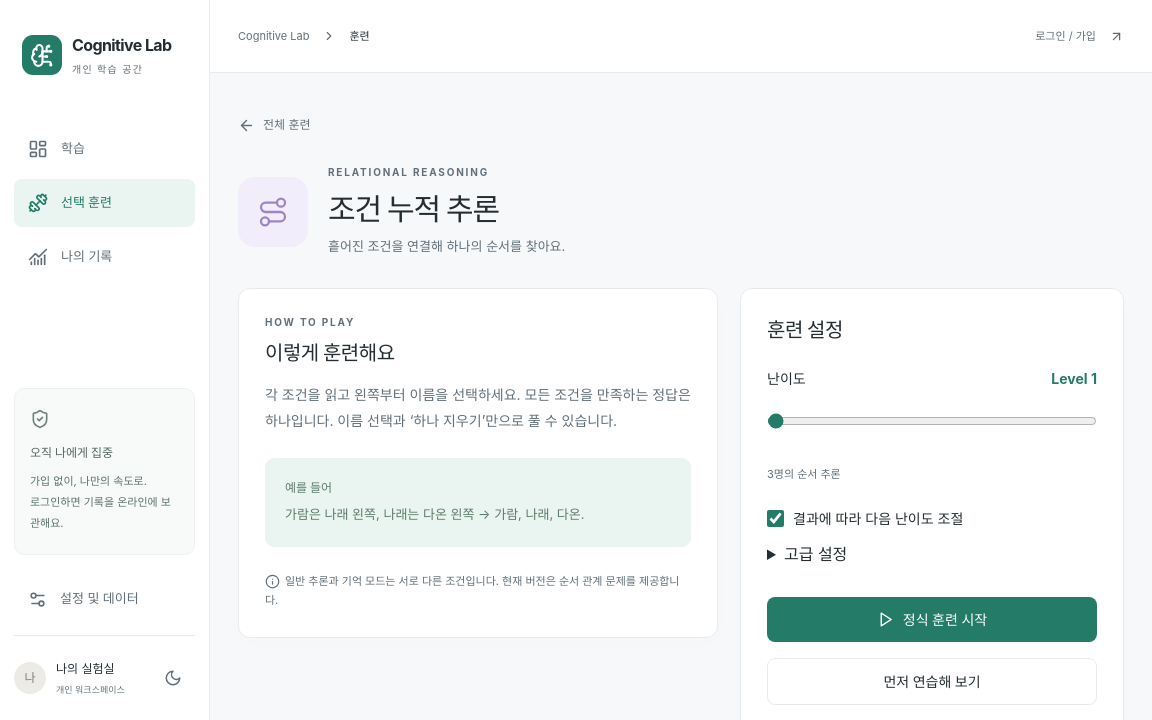
Test: invalidates a hidden timed session and excludes its result
Later steps or results of the test are not shown.
Expected: the heading "이렇게 훈련해요" is shown, [265, 341, 394, 365]
Click the button "정식 훈련 시작". click: (932, 620)
box: [767, 597, 1097, 642]
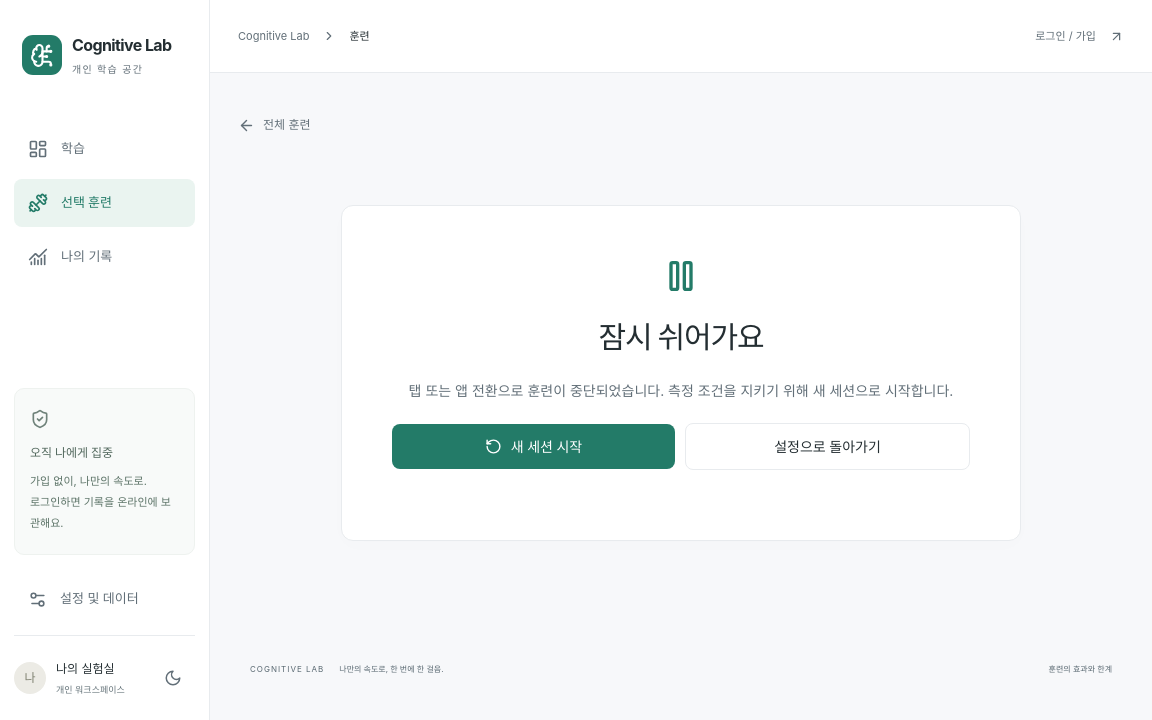
Expected: the heading "잠시 쉬어가요" is shown, [598, 319, 764, 355]
